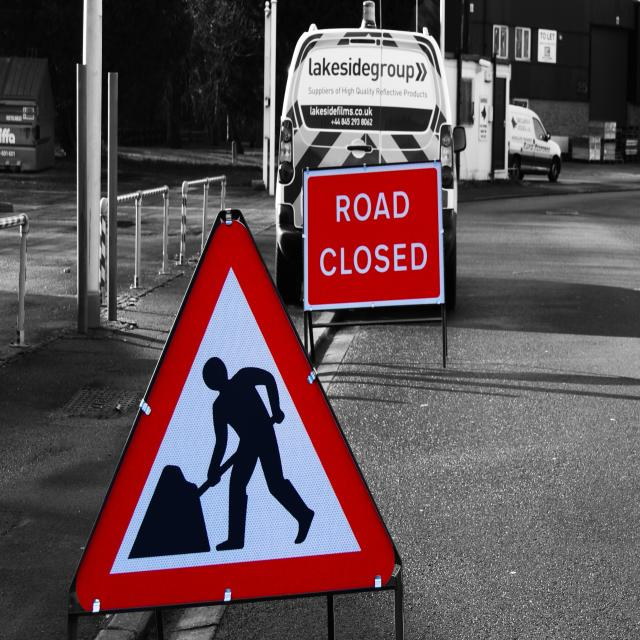Traffic sign: (88, 208, 398, 600), (300, 163, 446, 310)
